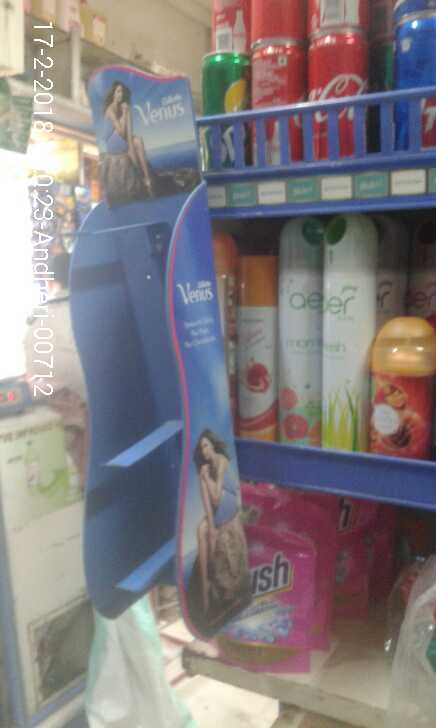reject: (103, 212, 213, 512)
